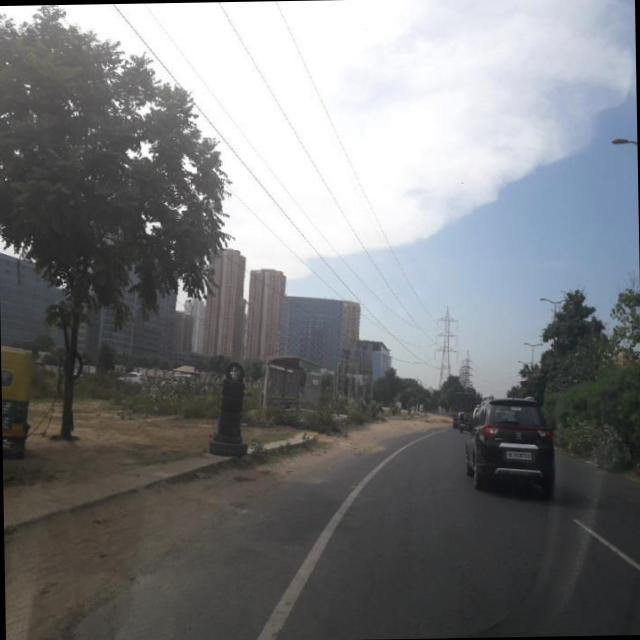crack: (306, 484, 586, 626)
